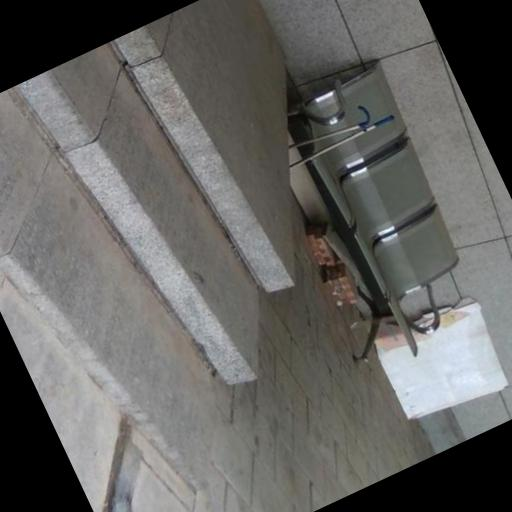stairs: (0, 0, 292, 475)
